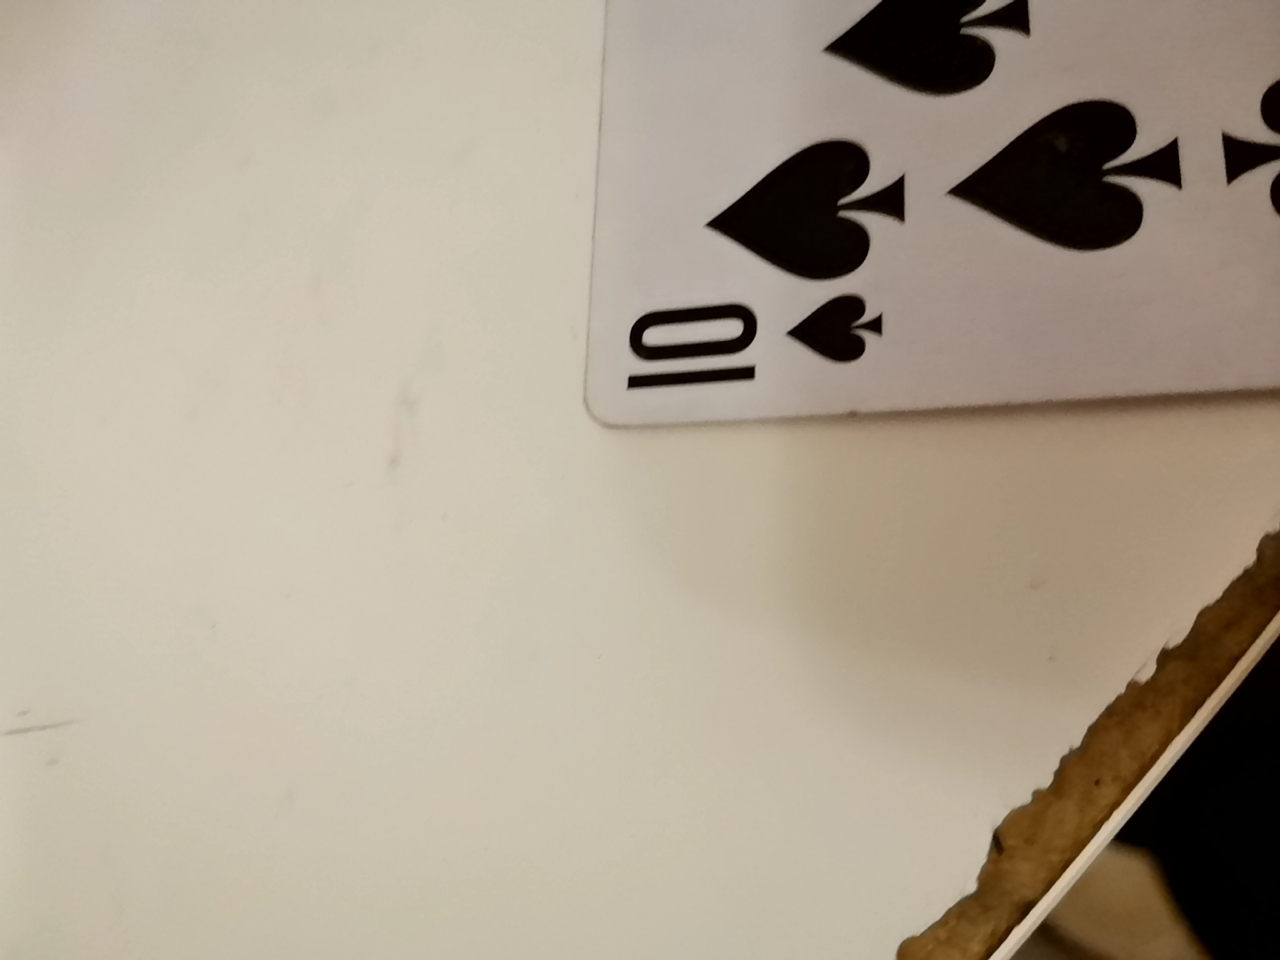ht 10: (547, 0, 1272, 446)
